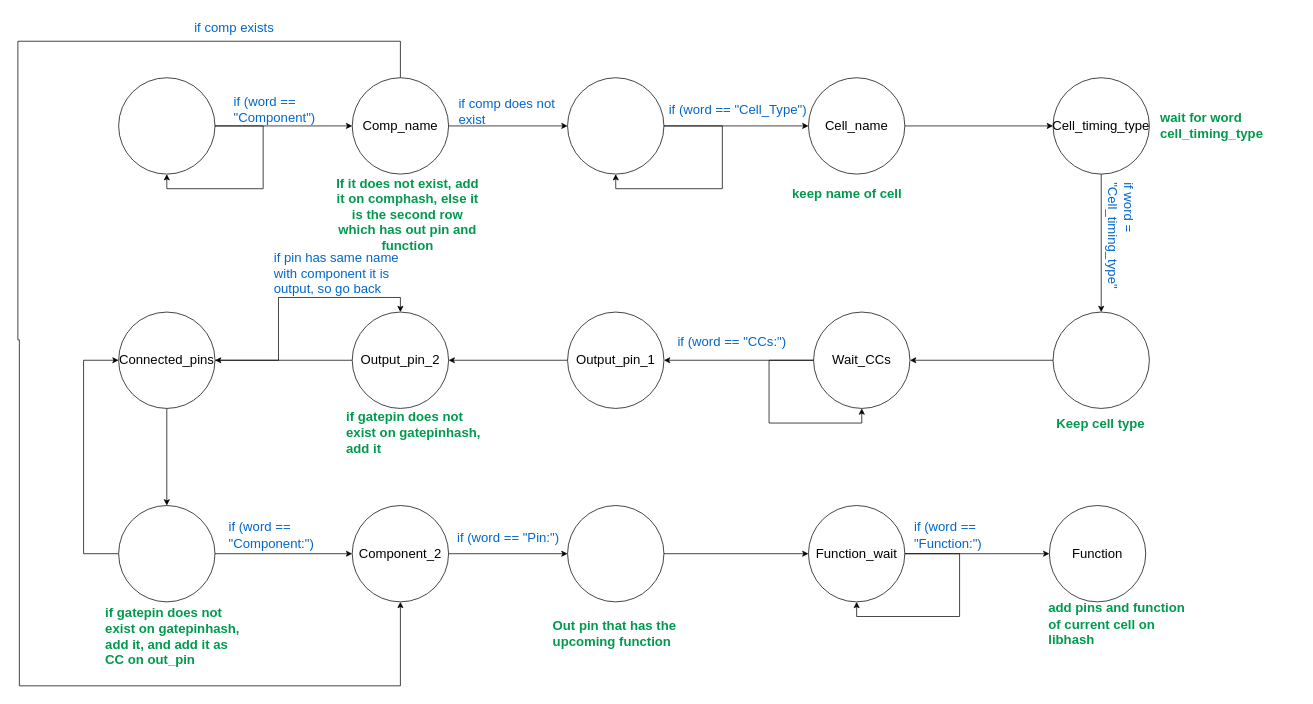
Some shapes in this 1313 by 704 pixel diagram are drawn without their labels. Each missing label, with the centre of its shape:
Cell_type: the point at 615,125
Connected_ pins_2: the point at 166,553
Get_cell_type: the point at 1100,359
Pin_out: the point at 615,553
Wait: the point at 166,125
